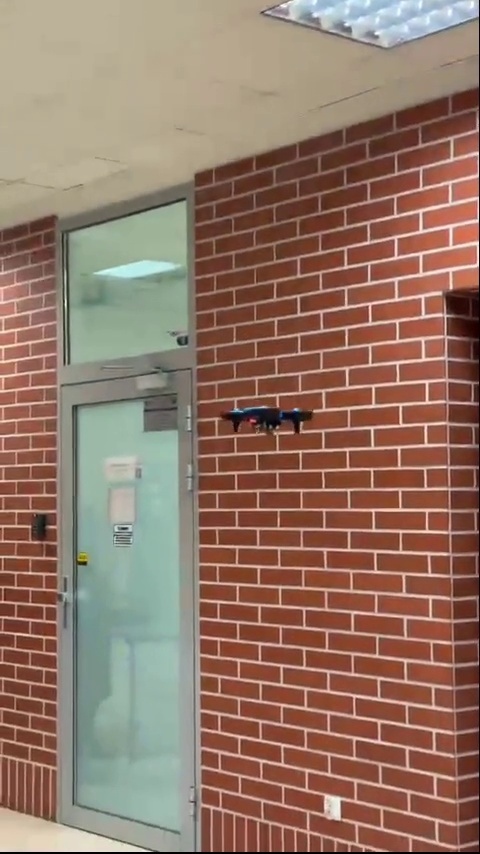drone: (222, 403, 314, 434)
